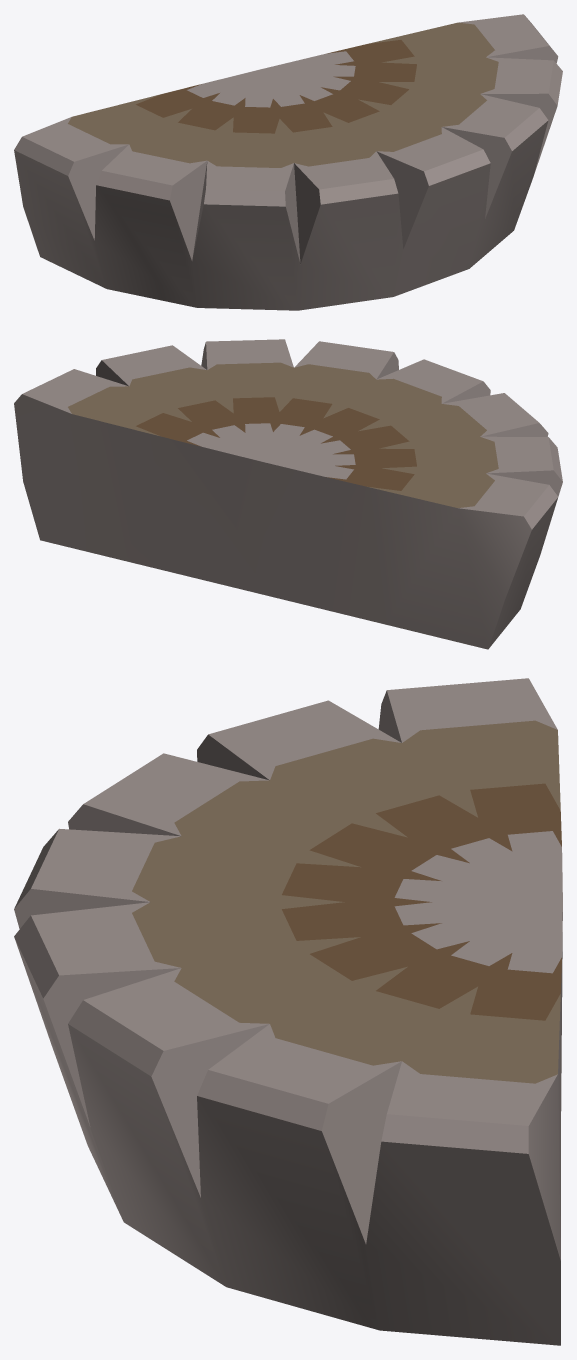
Rendered from SM_VolcanicFlats_SulphuricHorseshoe_Var3.fbx.
3 renders of one model, top to bottom at view 1: azimuth 30°, elevation 25°; view 2: azimuth 150°, elevation 25°; view 3: azimuth 270°, elevation 25°, orthographic. The views are drawn at different scales.
Visible parts, largest first — view 1: Horshshoe_Var3; view 2: Horshshoe_Var3; view 3: Horshshoe_Var3.
Boxes of the visible parts, x1=… form: Horshshoe_Var3: x1=14, y1=14, x2=562, y2=310; Horshshoe_Var3: x1=14, y1=339, x2=562, y2=649; Horshshoe_Var3: x1=14, y1=678, x2=562, y2=1345.
Bounding box in the file's own units: 231 × 56.84 × 116.
